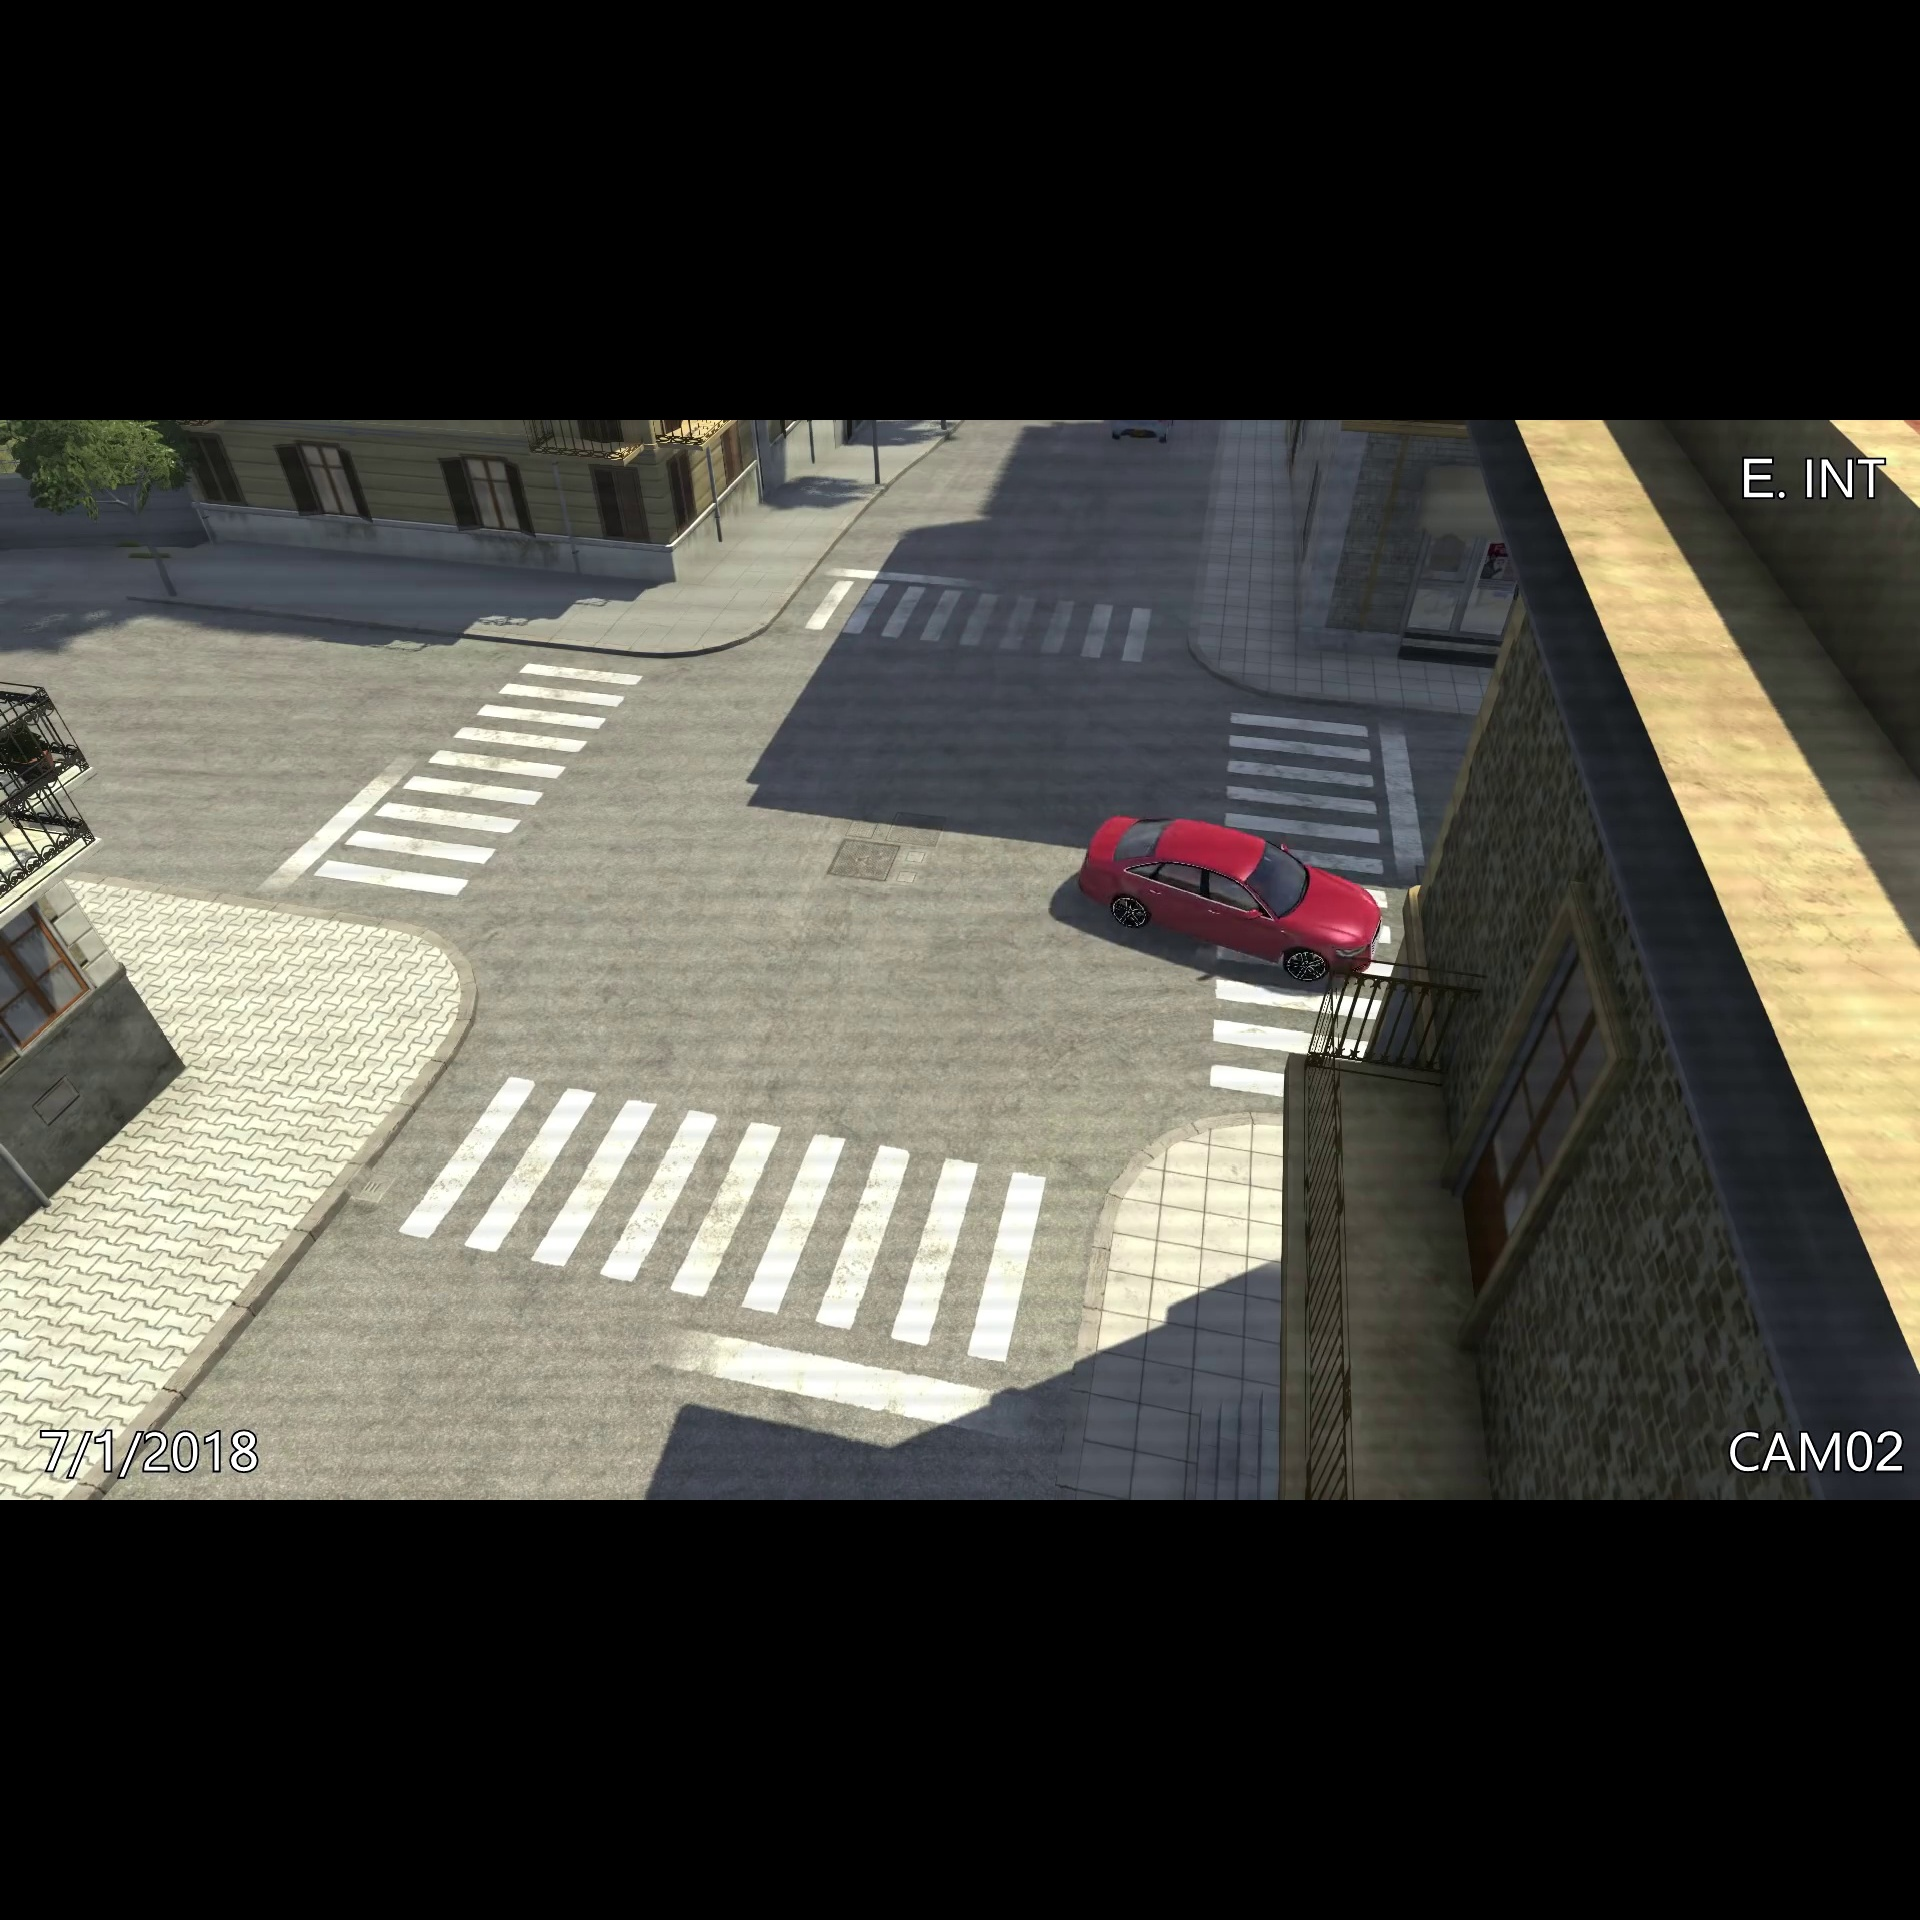vehicle: (1078, 809, 1391, 993)
